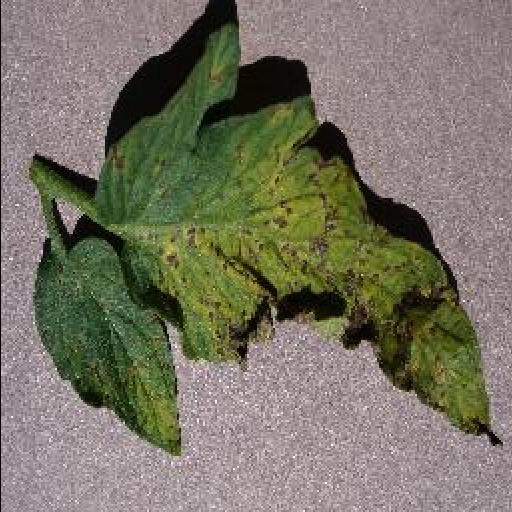disease_tomato: (94, 22, 502, 458)
